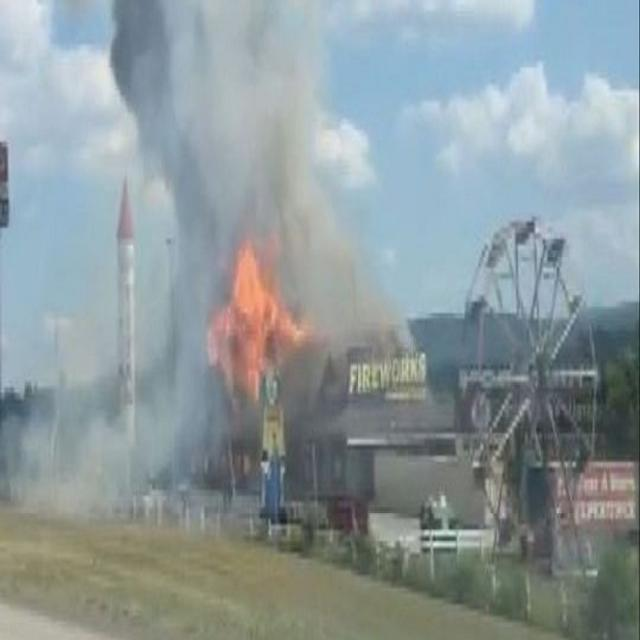Fire: (204, 241, 286, 414), (288, 314, 318, 352)
Smoke: (2, 354, 204, 528), (113, 0, 202, 345), (206, 0, 321, 225), (320, 320, 434, 496), (287, 231, 400, 300)
